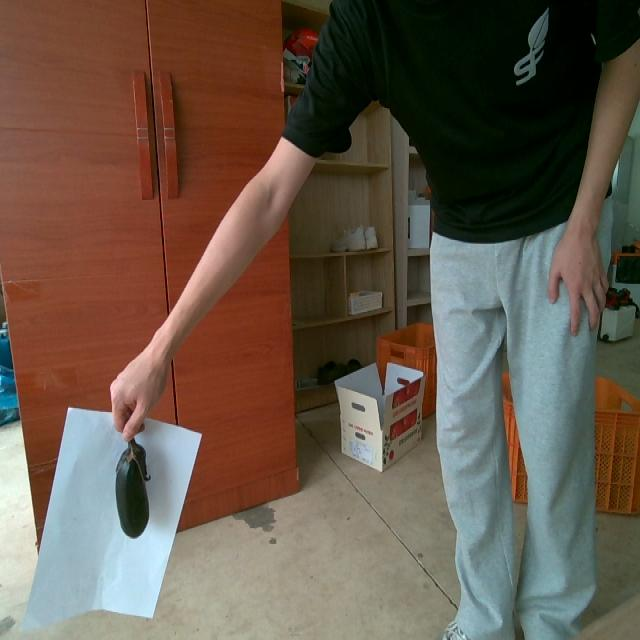Egg plant: (116, 439, 149, 537)
